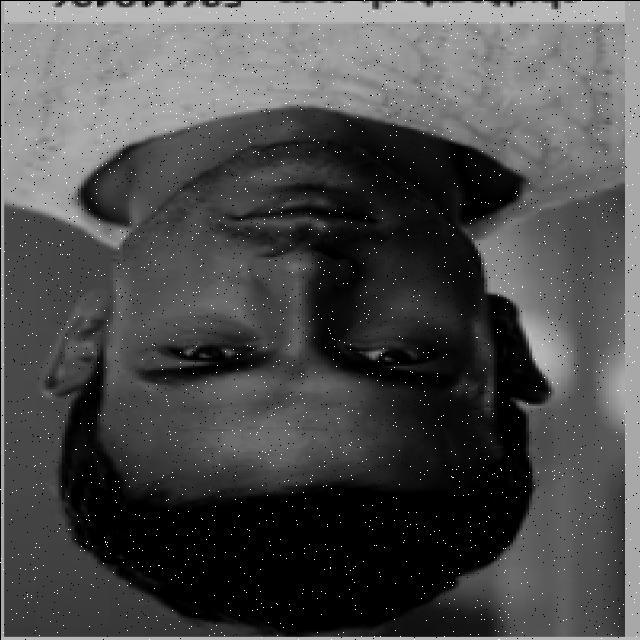face_no_mask: (49, 138, 556, 500)
